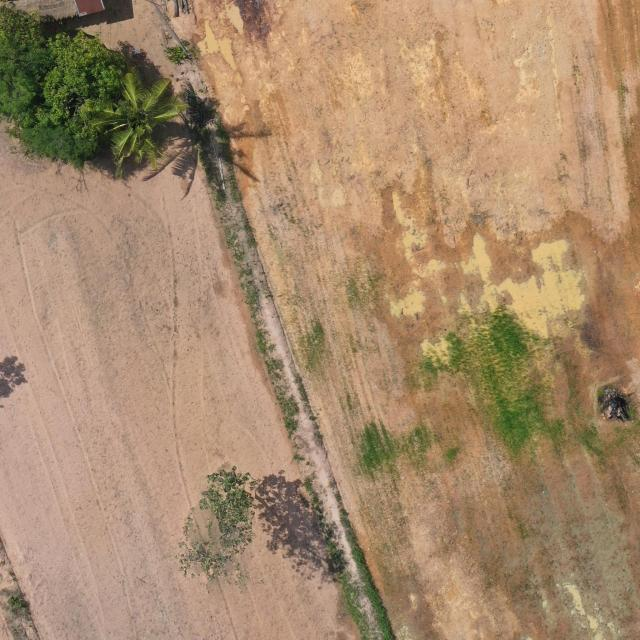Tree: (175, 466, 258, 584), (84, 71, 180, 173), (42, 31, 123, 123), (5, 122, 100, 171)
